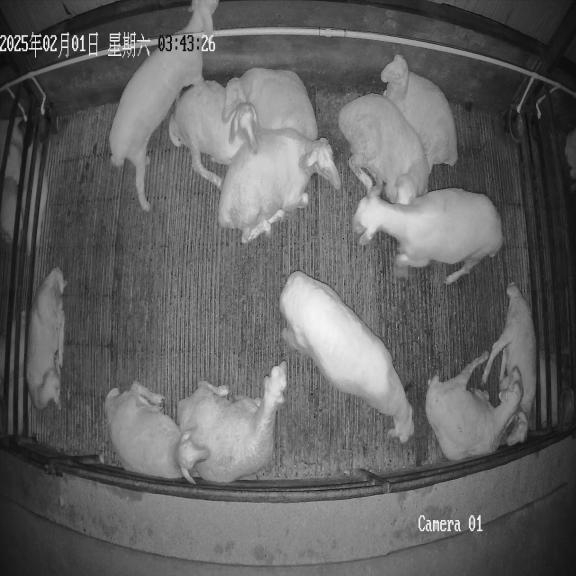lying: (218, 128, 340, 243), (178, 361, 287, 482), (105, 382, 208, 484), (425, 354, 522, 460), (338, 94, 430, 204), (168, 80, 258, 188), (381, 54, 457, 172), (482, 283, 536, 445), (224, 68, 318, 140), (26, 268, 66, 410)
stand: (279, 271, 414, 443), (109, 0, 218, 210), (352, 188, 503, 284)
